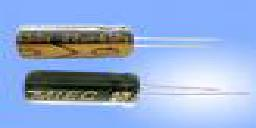Electrolytic Capacitor: (22, 67, 256, 114), (13, 19, 236, 60)
